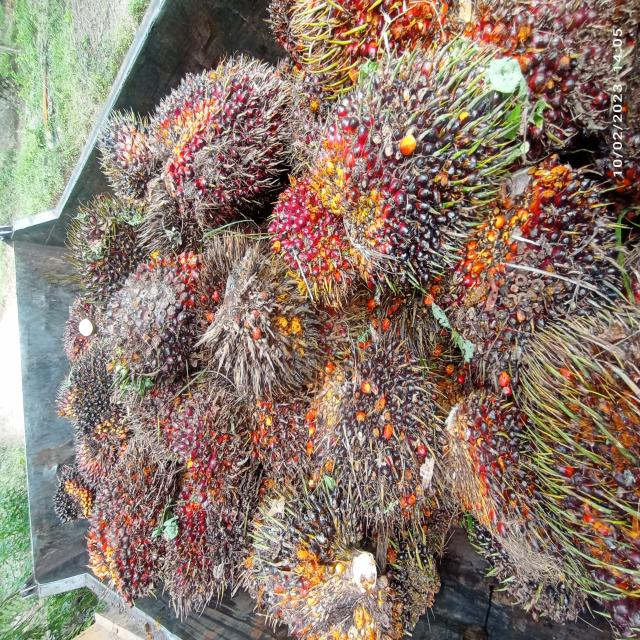fraksi 00: (299, 25, 557, 298), (318, 342, 443, 534), (242, 476, 361, 612), (52, 330, 142, 433), (56, 201, 146, 300), (92, 112, 160, 208), (46, 464, 96, 530)
fraksi 1: (446, 149, 620, 377), (134, 49, 298, 221), (438, 372, 570, 579), (89, 234, 217, 391)
fraksi 3: (167, 392, 264, 578), (264, 161, 357, 317)
fraksi 4: (75, 443, 177, 592)
